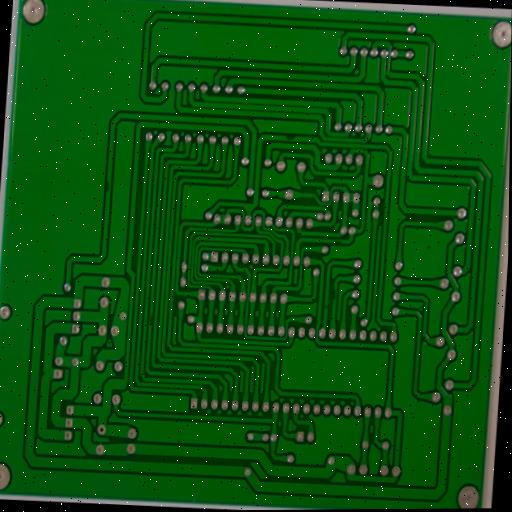mouse_bite: (105, 177, 113, 196), (147, 310, 155, 329), (331, 286, 339, 304), (283, 133, 297, 143), (333, 237, 344, 246)
